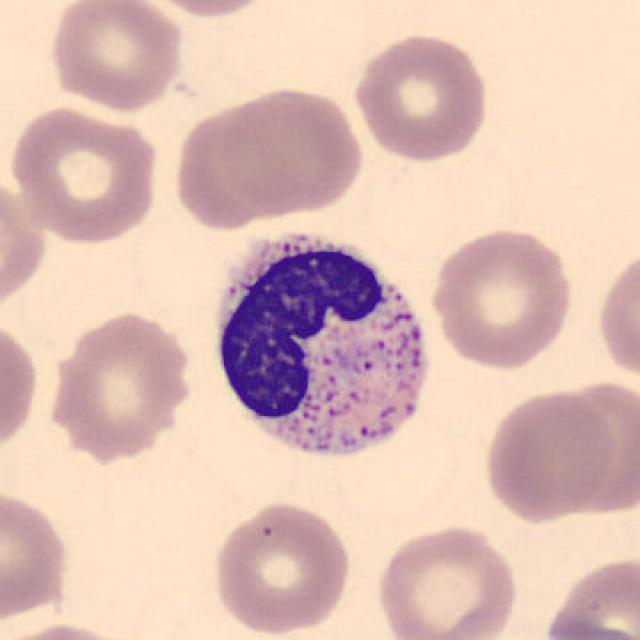Neutrophil: (199, 217, 445, 478)
RBC: (43, 307, 197, 460), (5, 102, 164, 245), (427, 222, 578, 372), (214, 83, 366, 220), (208, 497, 354, 638), (478, 386, 619, 526), (350, 28, 492, 164), (372, 520, 522, 640), (170, 105, 300, 236), (45, 0, 186, 115), (0, 485, 75, 628), (539, 552, 638, 640), (594, 242, 638, 386), (0, 314, 43, 460), (0, 619, 144, 640), (135, 0, 284, 19), (540, 615, 638, 640)
